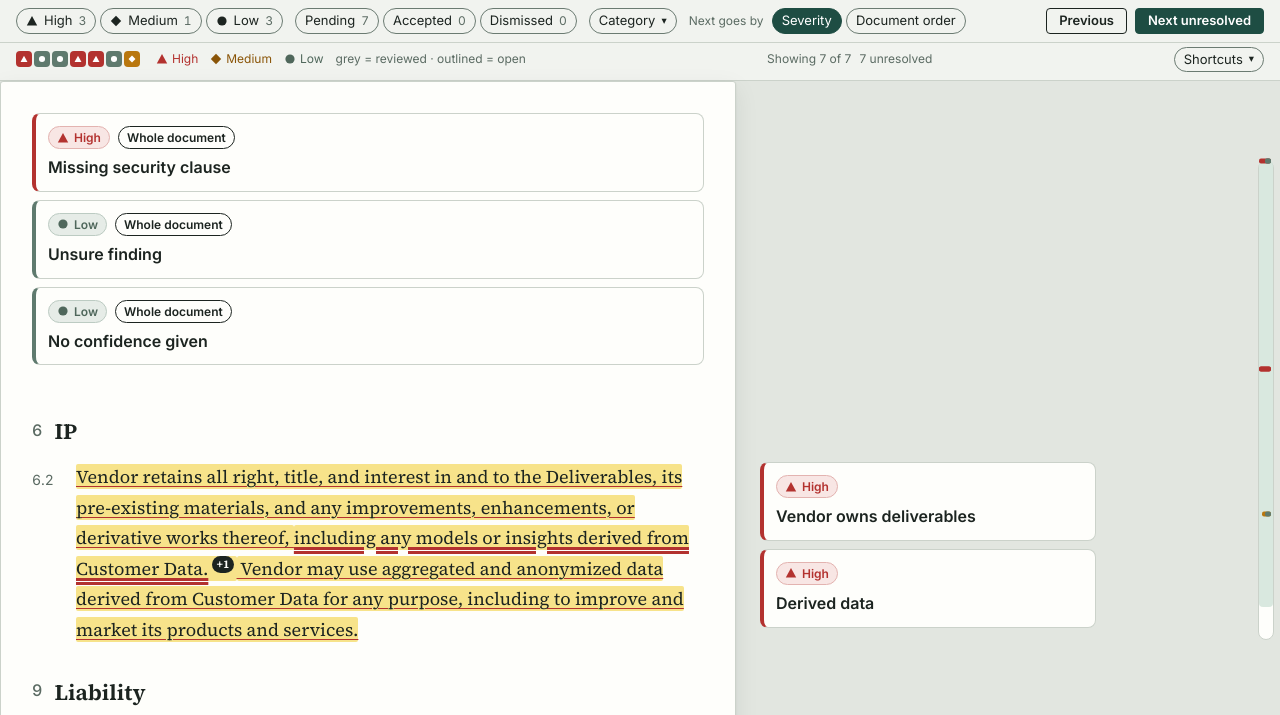
it: filtering › hides cards and highlights of findings that do not match
Click the button "High 3": point(56, 21) [16, 8, 96, 34]
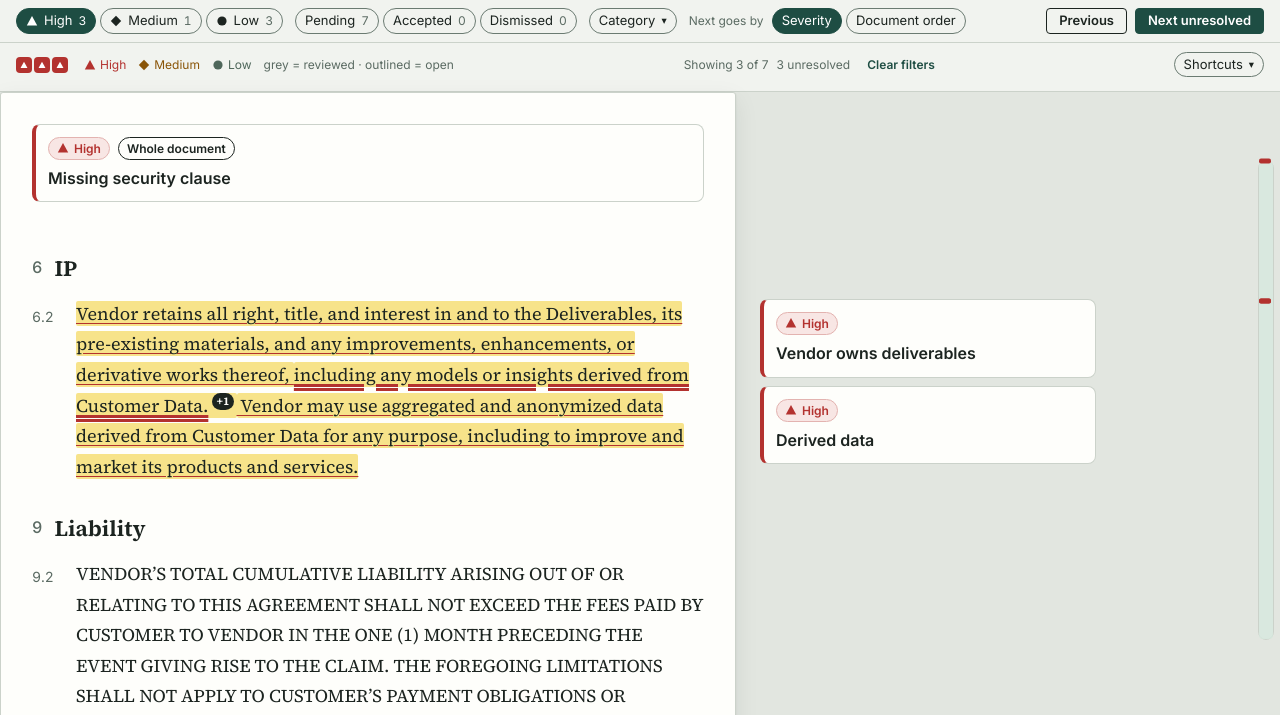
Check: the text "Showing 3 of 7" is shown, box [684, 56, 769, 74]
